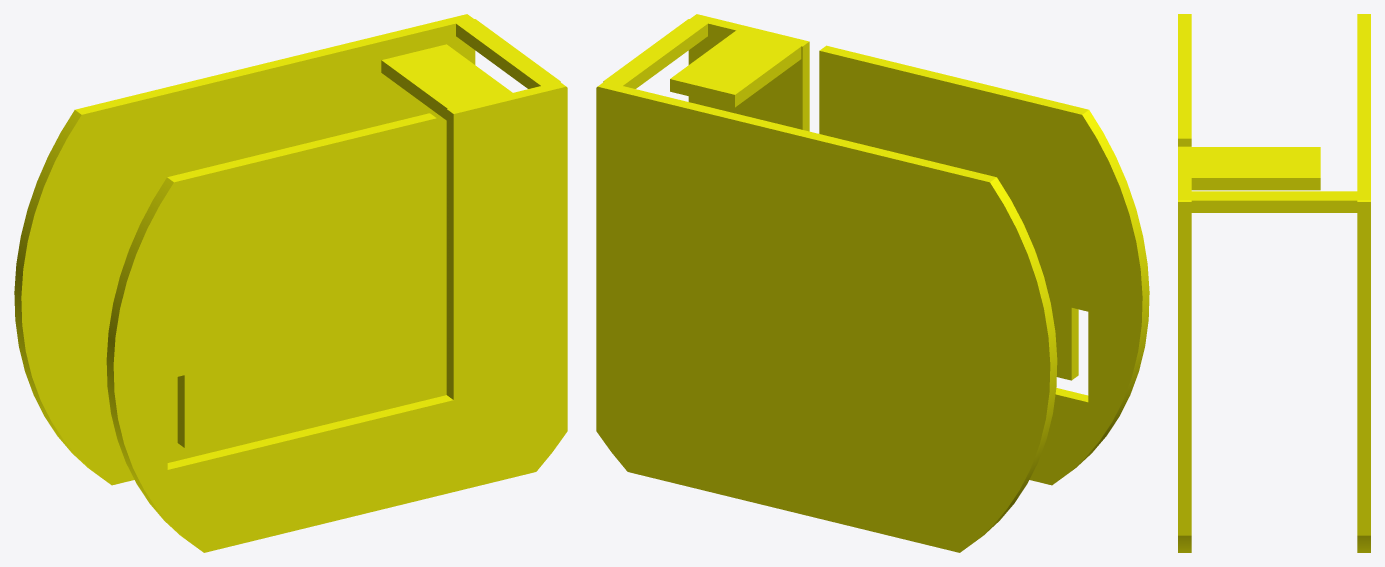
The model's file is gsm.glb.
3 views of the same model, side by side, from view 1: azimuth 30°, elevation 25°; view 2: azimuth 150°, elevation 25°; view 3: azimuth 270°, elevation 25° (orthographic). The views are drawn at different scales.
Parts seen in each view (by area): view 1: Body2, Body1, Body4, Body3; view 2: Body1, Body2, Body4, Body3; view 3: Body1, Body2, Body4, Body3.
Part boxes in pixels (x1,y1,x2,y2): Body2: [106, 81, 567, 552]; Body1: [14, 14, 475, 485]; Body4: [381, 44, 512, 120]; Body3: [456, 19, 560, 88]; Body1: [596, 81, 1057, 552]; Body2: [688, 14, 1149, 485]; Body4: [670, 30, 801, 107]; Body3: [603, 19, 707, 88]; Body1: [1357, 14, 1370, 552]; Body2: [1178, 14, 1191, 552]; Body4: [1191, 147, 1320, 190]; Body3: [1191, 191, 1357, 212].
Size of the model in its own units: 0.0301 by 0.0239 by 0.0114.
